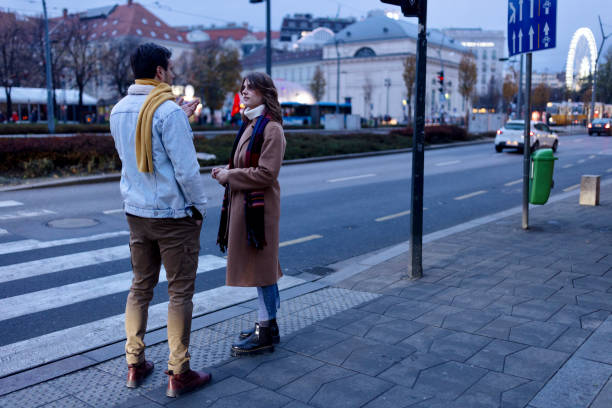otomobil: (487, 107, 571, 175)
yaya: (99, 44, 218, 408), (227, 60, 297, 365)
